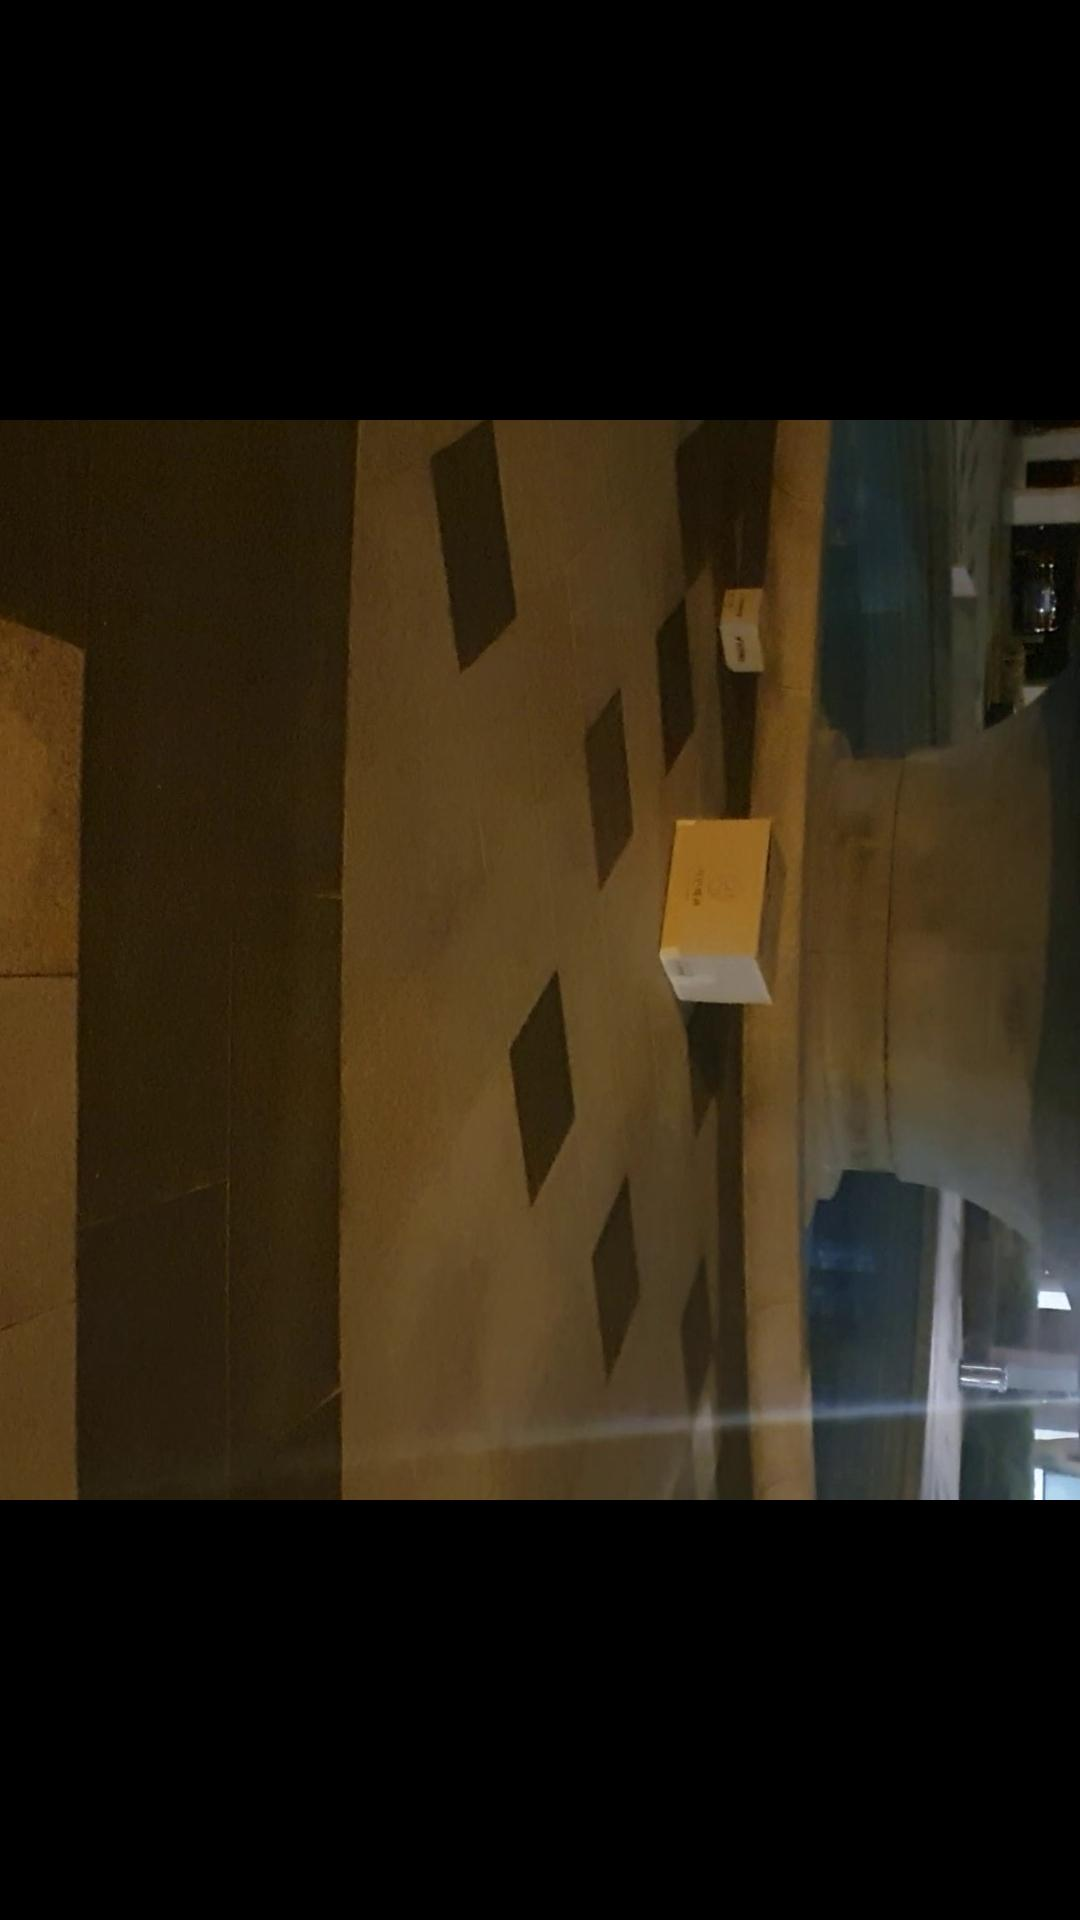Box: (658, 791, 804, 1033), (705, 574, 785, 692)
